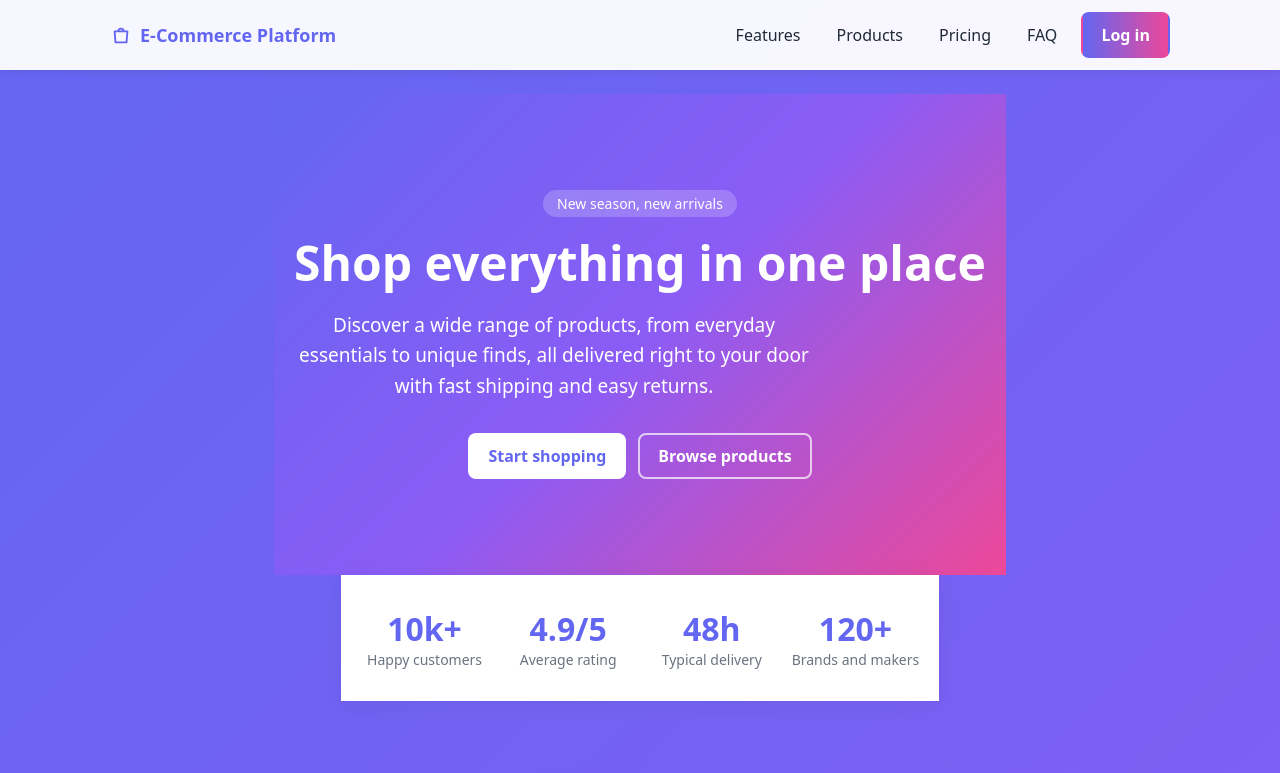
Scenario: Start shopping requires login
The image size is (1280, 773).
Click the button "Start shopping". click: x=547, y=456
box: [468,433,626,479]
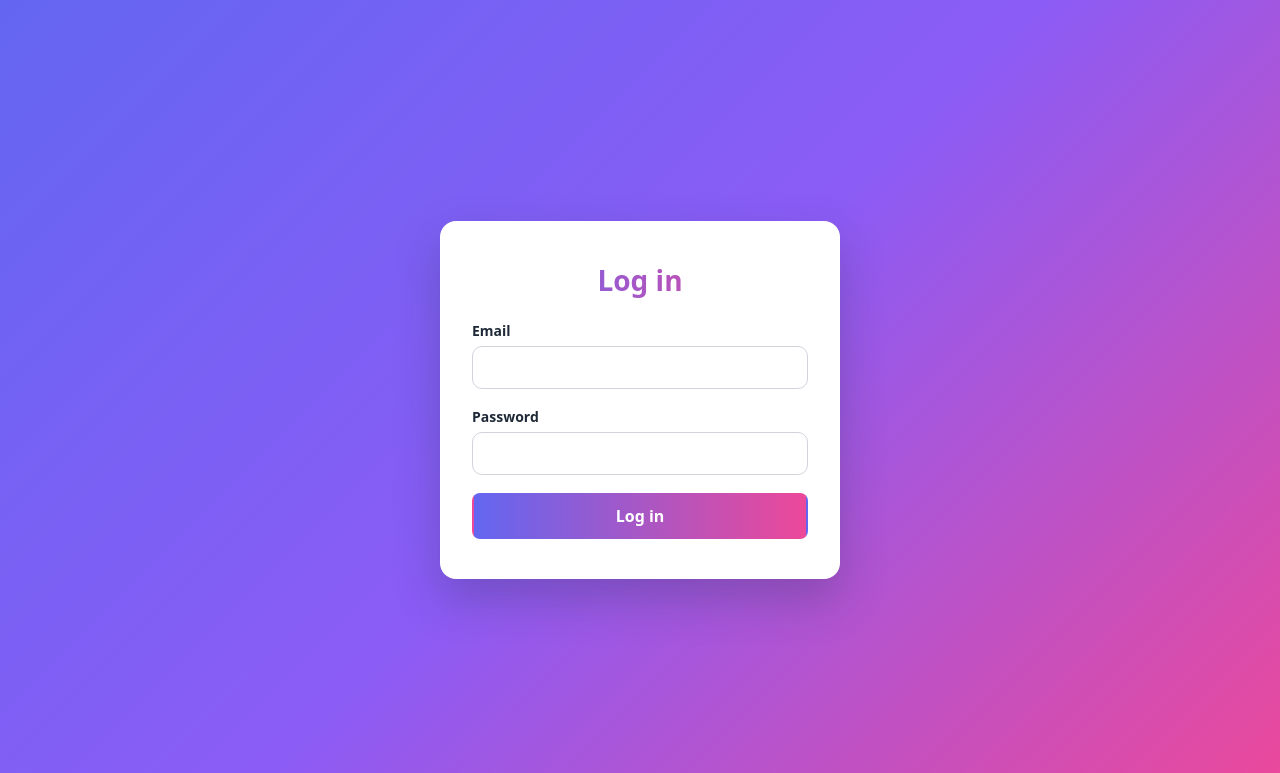
Expected: the password field labelled "Password" is shown, [472,432,808,475]
